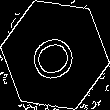O_E: (25, 25, 85, 85)
